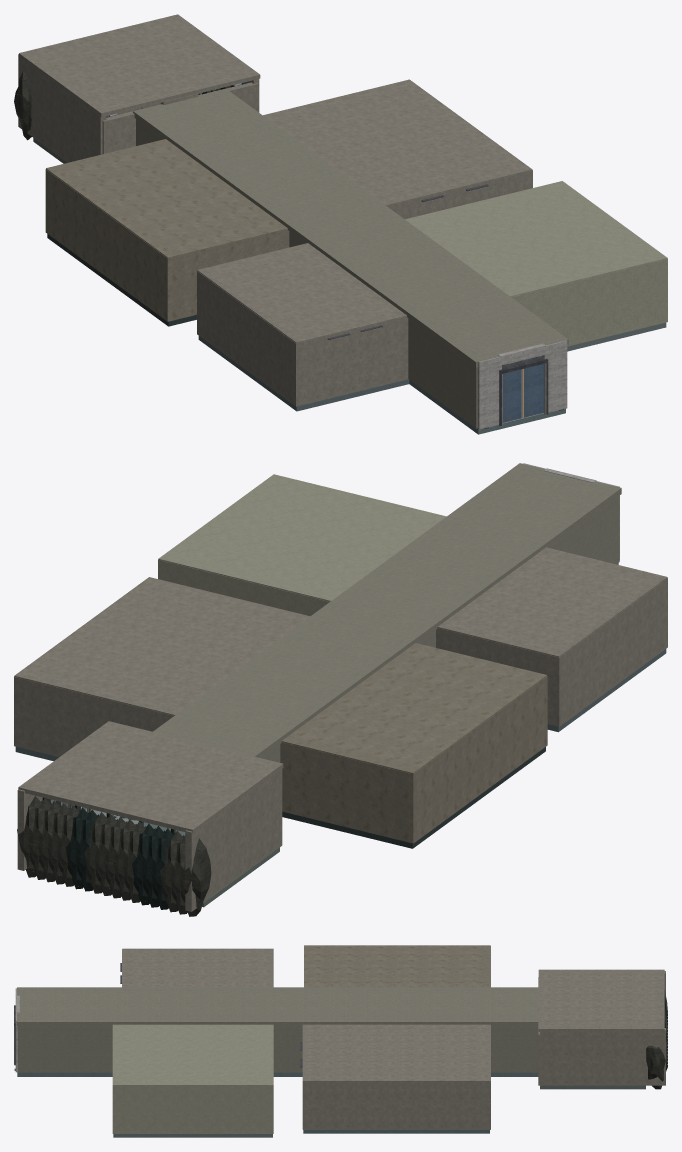
File: facility-retrofitted.glb
3 views of the same model, one above another, from view 1: azimuth 30°, elevation 25°; view 2: azimuth 150°, elevation 25°; view 3: azimuth 270°, elevation 25° (orthographic). The views are drawn at different scales.
Parts seen in each view (by area): view 1: spine / Cast-in-place concrete, room 04 / Cast-in-place concrete, room 01 / Cast-in-place concrete, room 02 / Cast-in-place concrete, room 05 / Cast-in-place concrete, room 03 / Cast-in-place concrete, Wing ACCESS | board-form, room 02 / Polished aggregate floor, Portal ACCESS right | blue-firedoor, Portal ACCESS left | blue-firedoor, room 05 / Fractured slate, spine / Polished aggregate floor (+2 smaller); view 2: spine / Cast-in-place concrete, room 04 / Cast-in-place concrete, room 03 / Cast-in-place concrete, room 05 / Cast-in-place concrete, room 02 / Cast-in-place concrete, room 01 / Cast-in-place concrete, room 05 / Fractured slate, room 05 / Damp slate, room 04 / Dark textured access floor; view 3: spine / Cast-in-place concrete, room 03 / Cast-in-place concrete, room 01 / Cast-in-place concrete, room 05 / Cast-in-place concrete, room 04 / Cast-in-place concrete, room 02 / Cast-in-place concrete, spine / Polished aggregate floor, room 05 / Fractured slate, room 03 / Polished aggregate floor, room 01 / Polished aggregate floor, room 05 / Polished aggregate floor.
Part boxes in pixels (<box>): spine / Cast-in-place concrete: <box>133,88,568,428</box>; room 04 / Cast-in-place concrete: <box>45,139,289,321</box>; room 01 / Cast-in-place concrete: <box>405,181,667,346</box>; room 02 / Cast-in-place concrete: <box>197,243,408,406</box>; room 05 / Cast-in-place concrete: <box>18,14,260,162</box>; room 03 / Cast-in-place concrete: <box>263,79,532,219</box>; Wing ACCESS | board-form: <box>477,340,567,429</box>; room 02 / Polished aggregate floor: <box>198,336,409,411</box>; Portal ACCESS right | blue-firedoor: <box>524,364,543,417</box>; Portal ACCESS left | blue-firedoor: <box>503,369,521,422</box>; room 05 / Fractured slate: <box>14,70,31,140</box>; spine / Polished aggregate floor: <box>409,380,565,434</box>; spine / Cast-in-place concrete: <box>153,463,621,762</box>; room 04 / Cast-in-place concrete: <box>280,643,547,843</box>; room 03 / Cast-in-place concrete: <box>14,577,309,757</box>; room 05 / Cast-in-place concrete: <box>17,721,283,911</box>; room 02 / Cast-in-place concrete: <box>436,547,667,726</box>; room 01 / Cast-in-place concrete: <box>158,474,446,616</box>; room 05 / Fractured slate: <box>17,796,211,916</box>; room 05 / Damp slate: <box>65,807,174,909</box>; room 04 / Dark textured access floor: <box>282,747,545,848</box>; spine / Cast-in-place concrete: <box>17,987,538,1072</box>; room 03 / Cast-in-place concrete: <box>302,1024,490,1129</box>; room 01 / Cast-in-place concrete: <box>112,1024,273,1133</box>; room 05 / Cast-in-place concrete: <box>538,969,665,1085</box>; room 04 / Cast-in-place concrete: <box>304,945,490,987</box>; room 02 / Cast-in-place concrete: <box>122,948,273,987</box>; spine / Polished aggregate floor: <box>17,1072,538,1076</box>; room 05 / Fractured slate: <box>646,989,667,1089</box>; room 03 / Polished aggregate floor: <box>303,1130,489,1133</box>; room 01 / Polished aggregate floor: <box>113,1134,272,1137</box>; room 05 / Polished aggregate floor: <box>540,1085,645,1089</box>.
Bounding box in the file's own units: 24.38 × 5.21 × 48.2.
157 materials, 157 textured.
